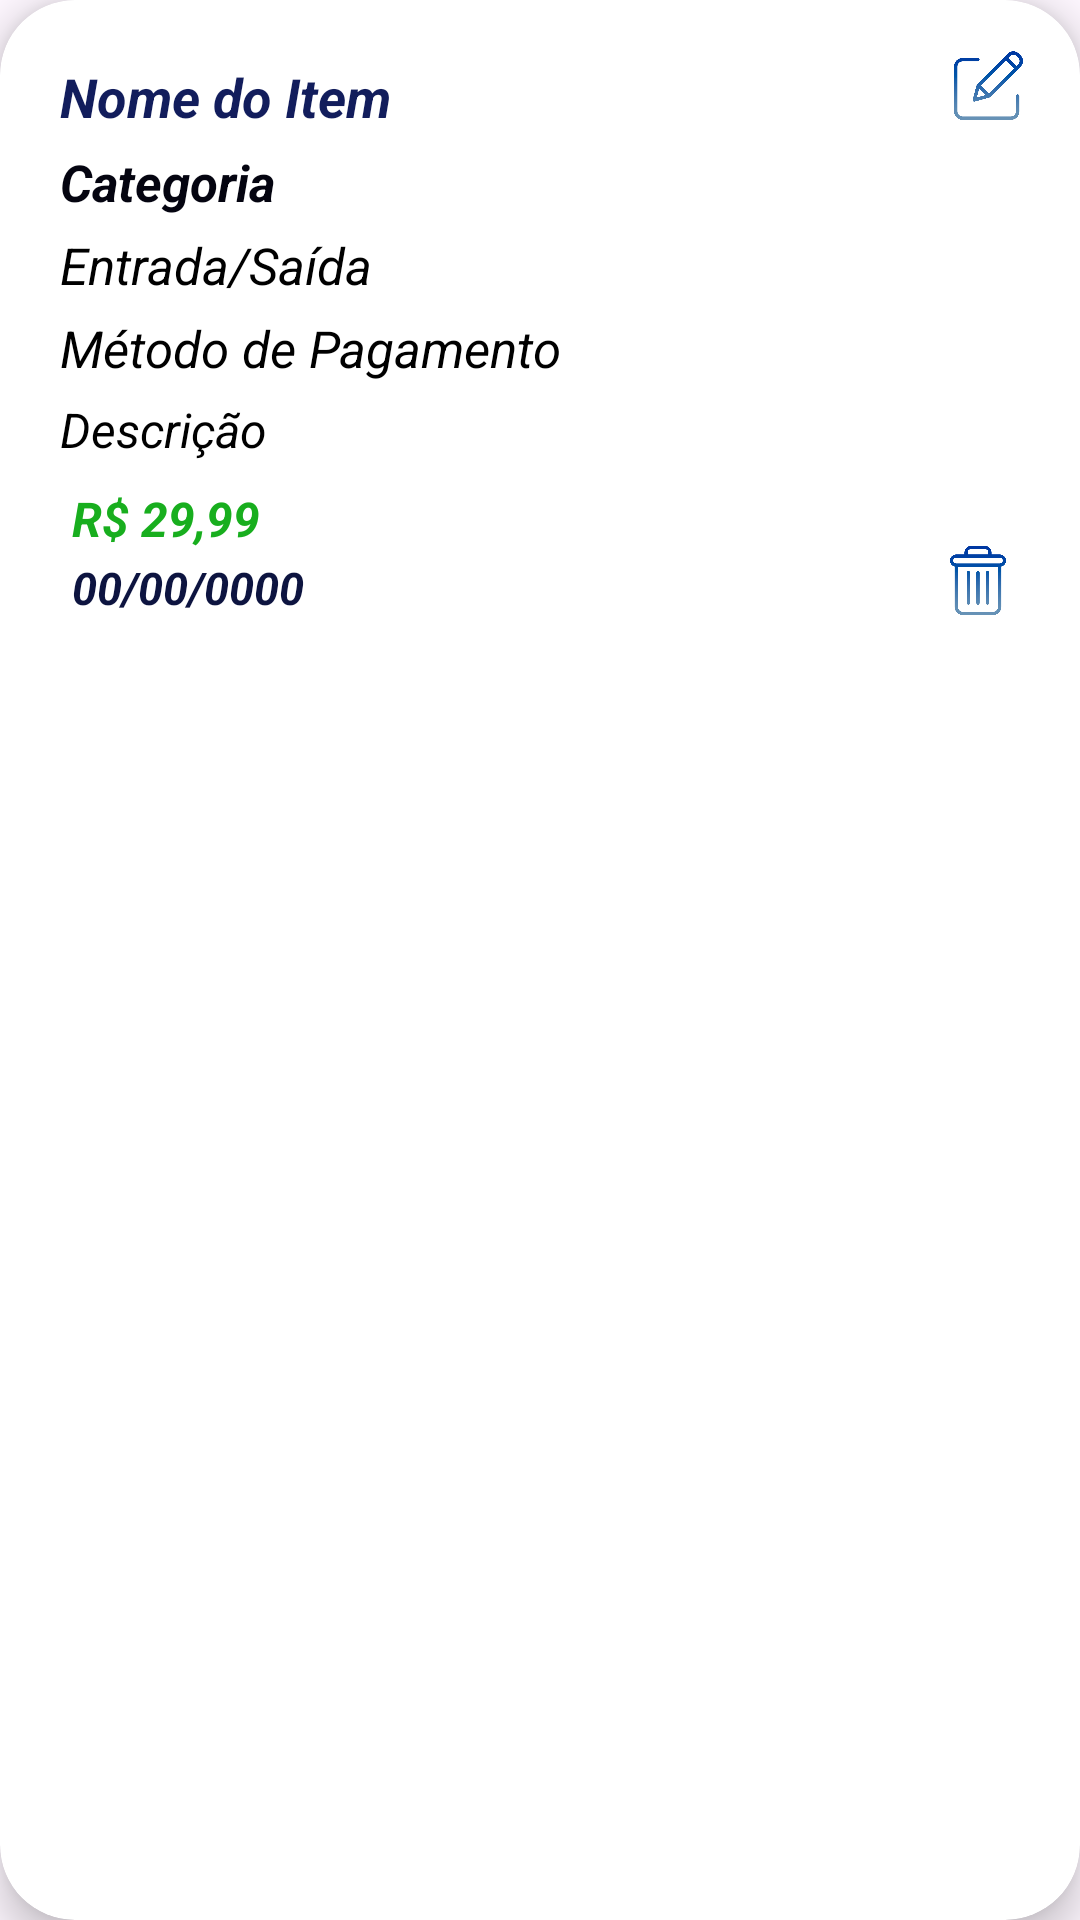

Screen size 1080 x 1920. Icon name, then its center in pixels as (x,y):
deleteicon: (978,580)
editicon: (988,85)
